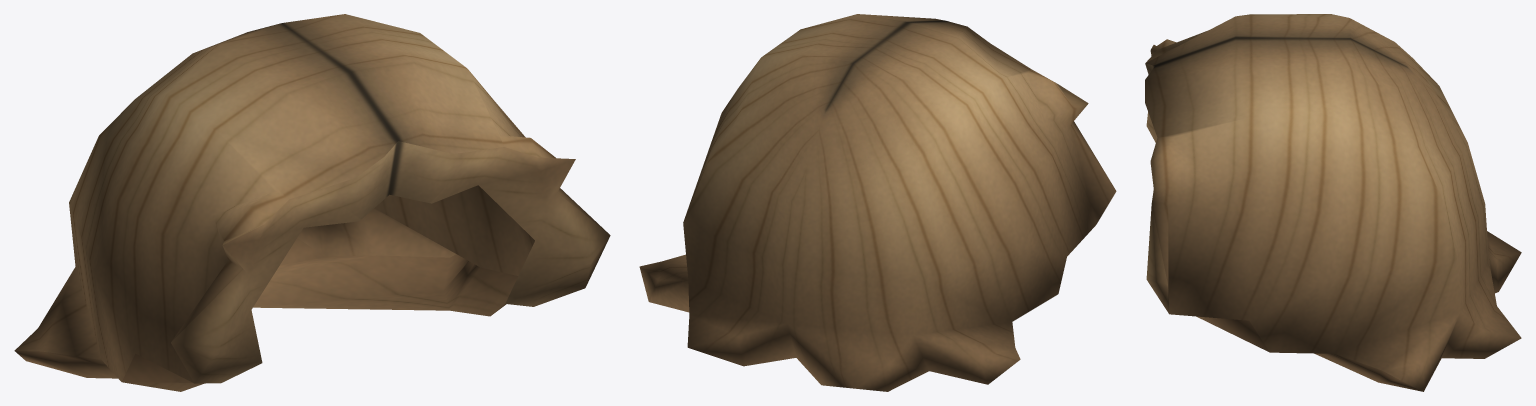
The model's file is Hair_Steve.FBX.
3 views of the same model, side by side, from view 1: azimuth 30°, elevation 25°; view 2: azimuth 150°, elevation 25°; view 3: azimuth 270°, elevation 25° (orthographic). The views are drawn at different scales.
Visible parts, largest first — view 1: Hair_Steve; view 2: Hair_Steve; view 3: Hair_Steve.
Part boxes in pixels (left/top/right/bottom): Hair_Steve: left=14, top=14, right=610, bottom=391; Hair_Steve: left=639, top=14, right=1116, bottom=391; Hair_Steve: left=1145, top=14, right=1521, bottom=391.
Size of the model in its own units: 291 by 191 by 238.
